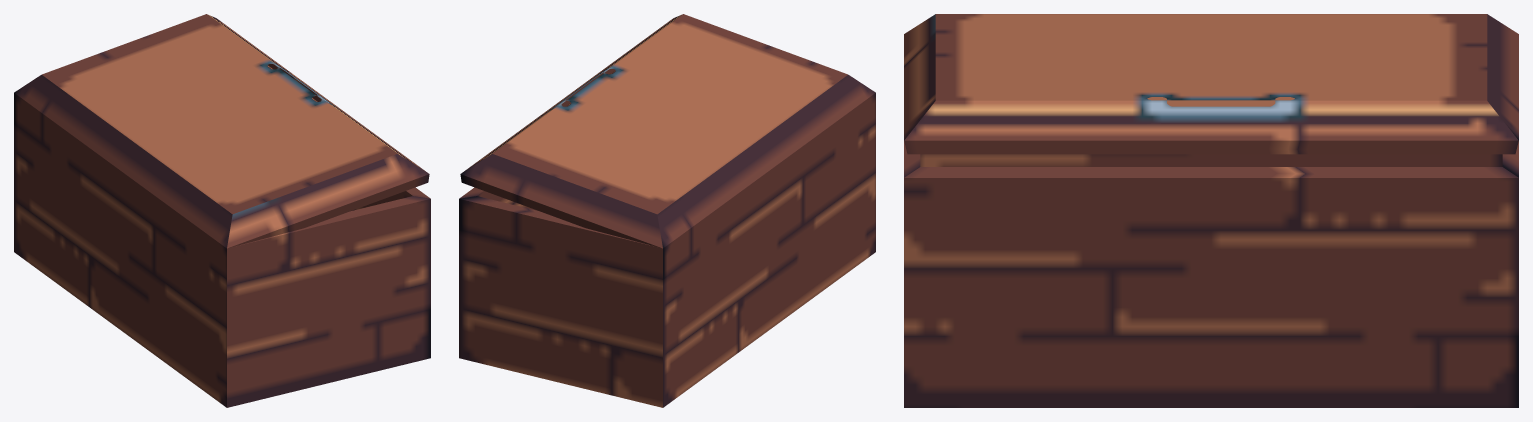
The model's file is Bau.fbx.
3 renders of one model, left to right at view 1: azimuth 30°, elevation 25°; view 2: azimuth 150°, elevation 25°; view 3: azimuth 270°, elevation 25°, orthographic. The views are drawn at different scales.
Parts seen in each view (by area): view 1: Bau; view 2: Bau; view 3: Bau.
Part boxes in pixels (x1,y1,x2,y2): Bau: (14,14,430,407); Bau: (459,14,875,407); Bau: (904,14,1518,407).
Size of the model in its own units: 80.74 by 76.33 by 146.
